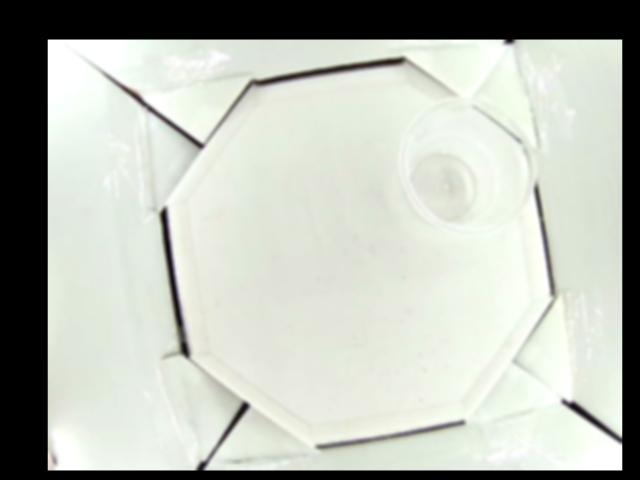Cup: (396, 94, 537, 236)
